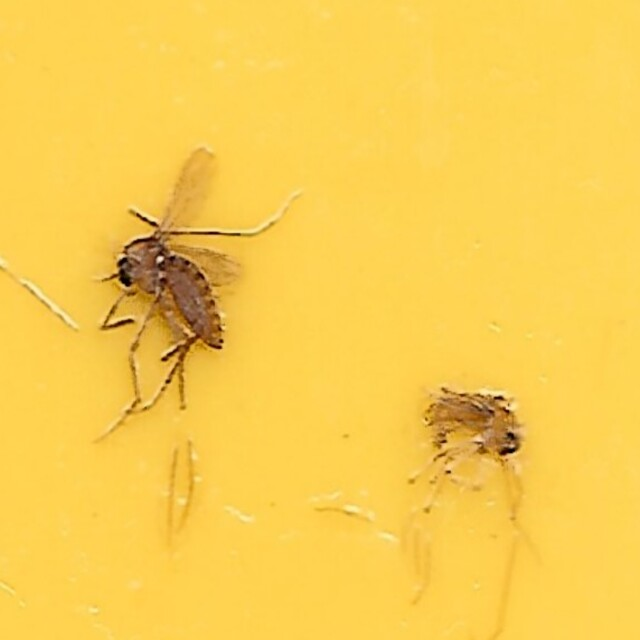Nematocera: (112, 145, 232, 413), (416, 375, 528, 495)
